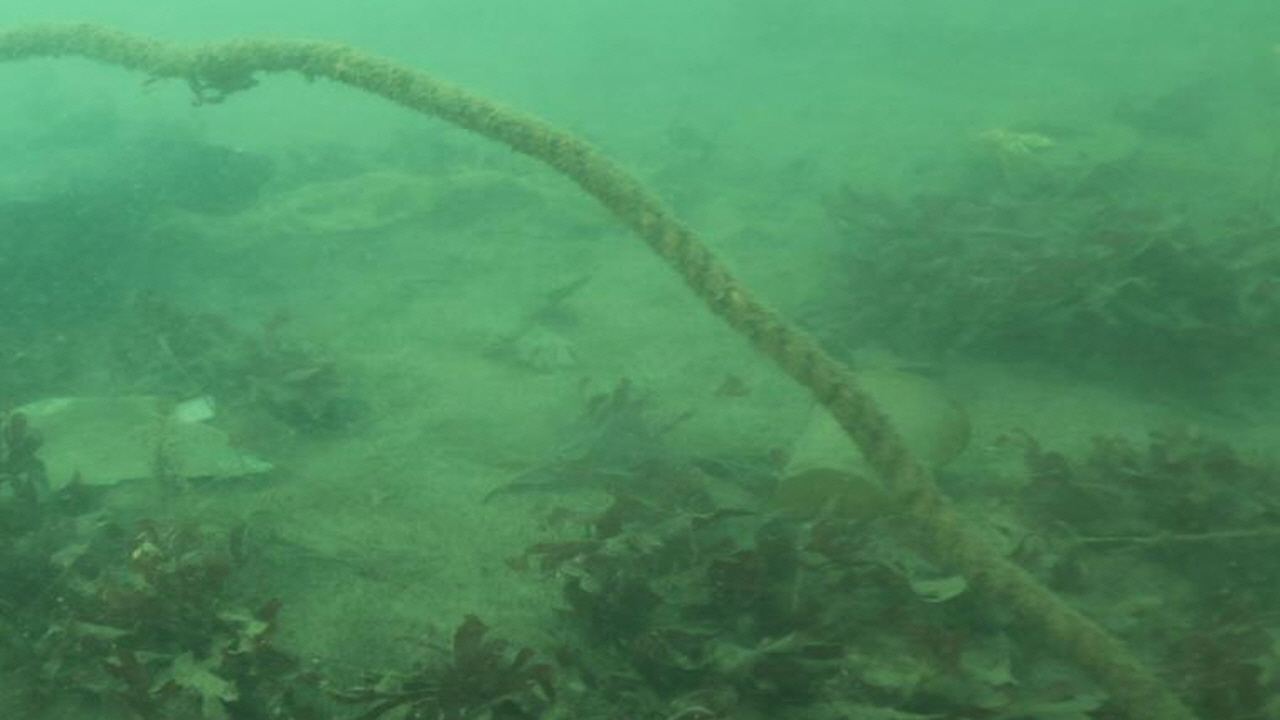rope: (0, 22, 1195, 720)
